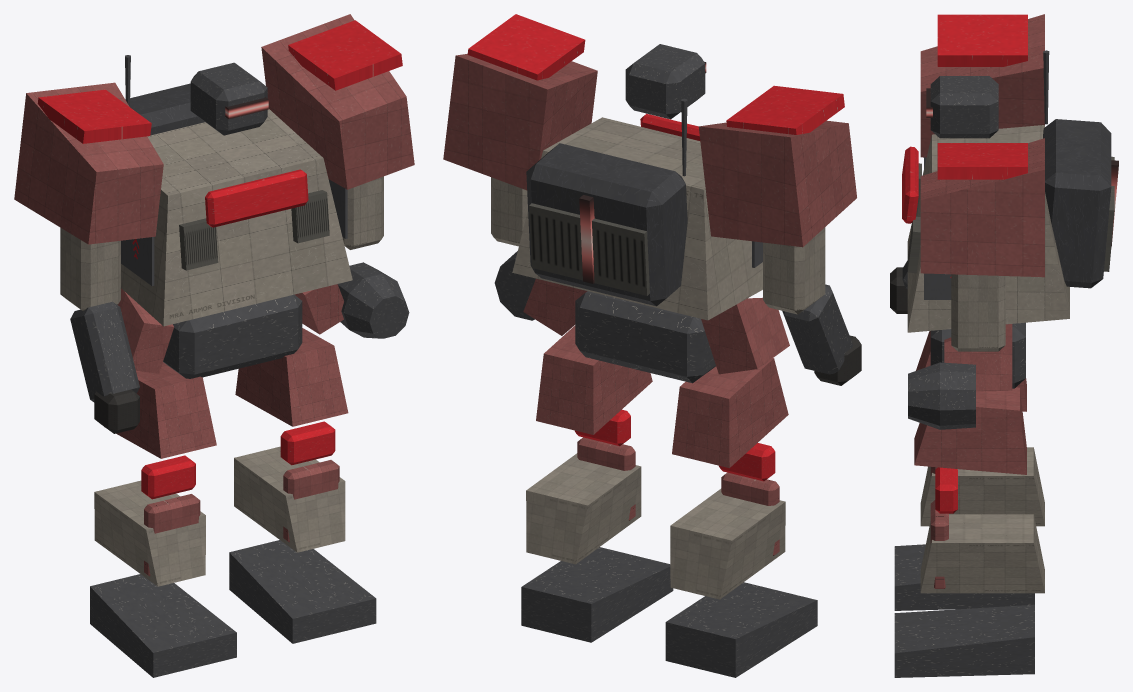
The model's file is colossus.obj.
The picture shows the model from 3 angles, left to right: view 1: azimuth 30°, elevation 25°; view 2: azimuth 150°, elevation 25°; view 3: azimuth 270°, elevation 25°; orthographic projection. The views are drawn at different scales.
Parts seen in each view (by area): view 1: colossus; view 2: colossus; view 3: colossus.
Boxes of the visible parts, x1,y1,x2,y2 form: colossus: (14,14,414,677); colossus: (443,14,861,677); colossus: (890,14,1118,677).
Size of the model in its own units: 1.86 by 2.82 by 1.08.
Materials: 1 (1 with a texture image).
